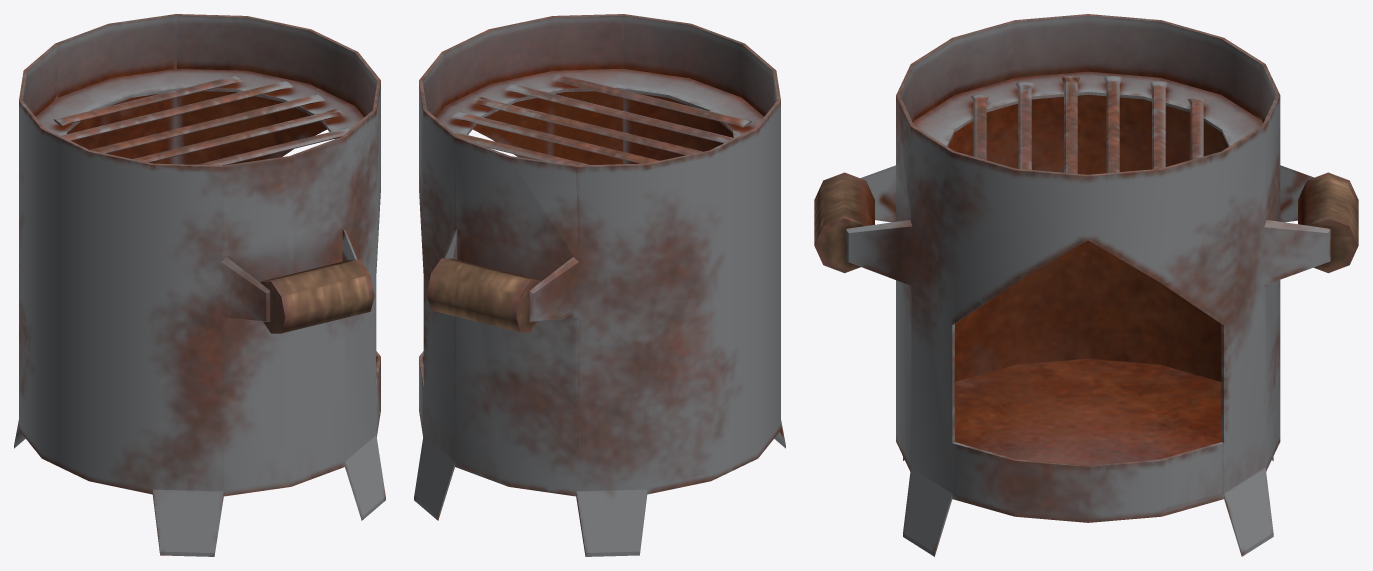
File: thing_3.fbx
3 renders of one model, left to right at view 1: azimuth 30°, elevation 25°; view 2: azimuth 150°, elevation 25°; view 3: azimuth 270°, elevation 25°, orthographic. The views are drawn at different scales.
Parts seen in each view (by area): view 1: pCylinder2, pCylinder11, pCylinder3, pCylinder9, pCylinder10, pCylinder4, pCylinder8, pCylinder7; view 2: pCylinder2, pCylinder12, pCylinder8, pCylinder3, pCylinder6, pCylinder7, pCylinder9, pCylinder4; view 3: pCylinder2, pCylinder11, pCylinder12, pCylinder3, pCylinder9, pCylinder8, pCylinder6, pCylinder7, pCylinder10, pCylinder4.
Boxes of the visible parts, x1,y1,x2,y2 form: pCylinder2: (14, 14, 385, 556); pCylinder11: (260, 259, 374, 333); pCylinder3: (90, 94, 325, 153); pCylinder9: (61, 81, 292, 140); pCylinder10: (53, 75, 242, 125); pCylinder4: (136, 109, 342, 162); pCylinder8: (197, 127, 349, 165); pCylinder7: (132, 111, 345, 162); pCylinder2: (414, 14, 785, 556); pCylinder12: (427, 258, 540, 332); pCylinder8: (505, 83, 734, 143); pCylinder3: (451, 111, 659, 163); pCylinder6: (551, 74, 751, 127); pCylinder7: (473, 96, 699, 155); pCylinder9: (452, 131, 590, 165); pCylinder4: (471, 99, 702, 154); pCylinder2: (846, 14, 1330, 556); pCylinder11: (814, 172, 874, 273); pCylinder12: (1298, 172, 1358, 273); pCylinder3: (1103, 76, 1122, 173); pCylinder9: (1149, 81, 1167, 169); pCylinder8: (1015, 82, 1034, 169); pCylinder6: (971, 95, 989, 160); pCylinder7: (1064, 76, 1080, 173); pCylinder10: (1187, 98, 1206, 159); pCylinder4: (1061, 76, 1077, 173).
Bounding box in the file's own units: 51.38 × 59.59 × 72.77.
